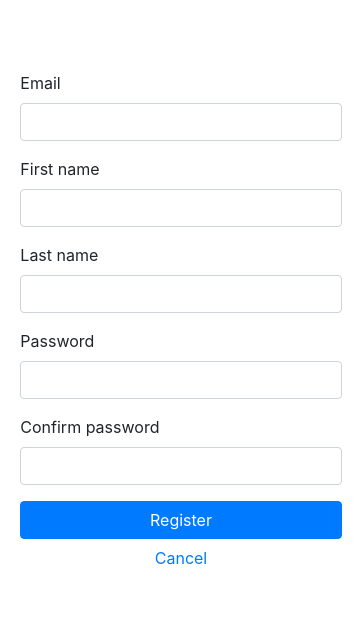
Register Component › When submitting the empty form, it should show required field errors
This screenshot has width=363, height=642.
Click the button with test id "register-button".
click(181, 520)  # box left=20, top=501, right=342, bottom=539
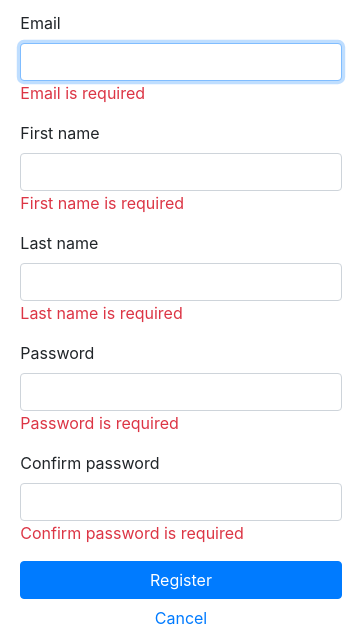
Expected: the text "Email is required" is shown, left=20, top=83, right=145, bottom=103
Expected: the text "First name is required" is shown, left=20, top=193, right=184, bottom=213
Expected: the text "Last name is required" is shown, left=20, top=303, right=183, bottom=323
